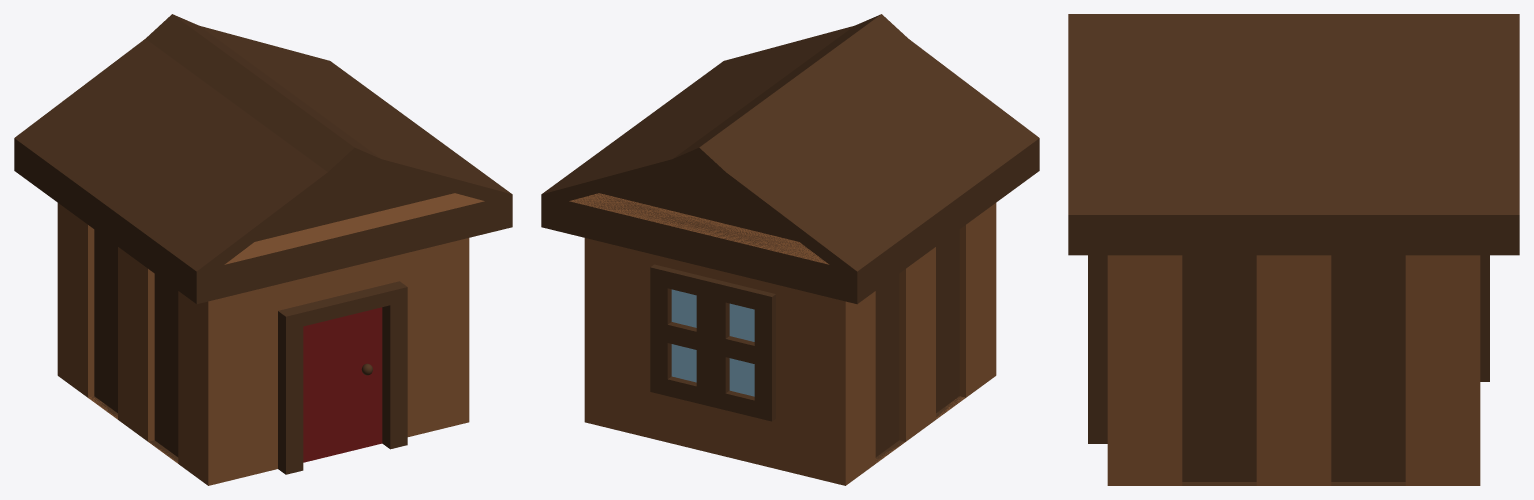
Rendered from shed_col.glb.
The picture shows the model from 3 angles, left to right: view 1: azimuth 30°, elevation 25°; view 2: azimuth 150°, elevation 25°; view 3: azimuth 270°, elevation 25°; orthographic projection. The views are drawn at different scales.
Visible parts, largest first — view 1: Shed-colonly; view 2: Shed-colonly; view 3: Shed-colonly.
Boxes of the visible parts, box(x1,y1,x2,y2) form: Shed-colonly: box(14, 14, 512, 485); Shed-colonly: box(541, 14, 1039, 485); Shed-colonly: box(1068, 14, 1519, 485).
Bounding box in the file's own units: 4.58 × 4.41 × 4.58.
